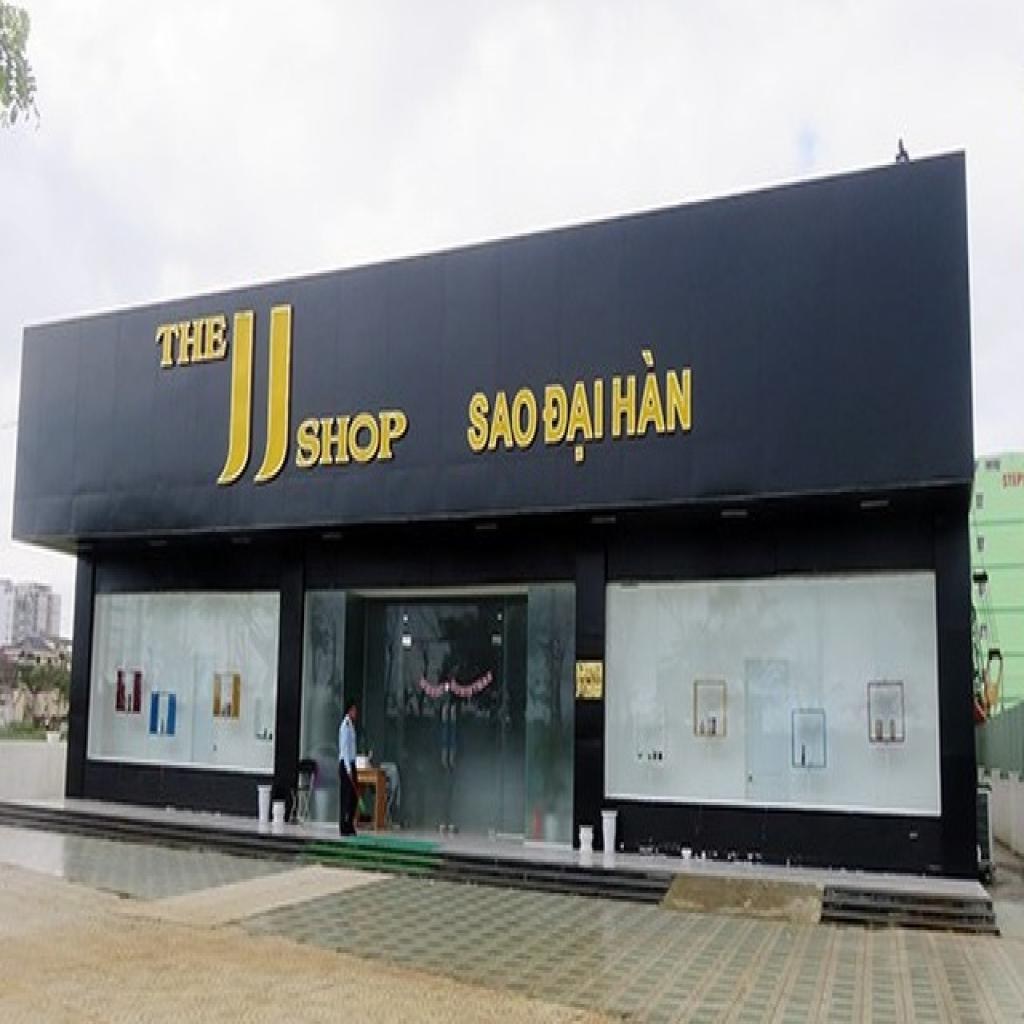text: (210, 299, 298, 492), (293, 404, 413, 475), (610, 347, 696, 444), (541, 376, 606, 470), (466, 387, 540, 458), (152, 310, 230, 376)
